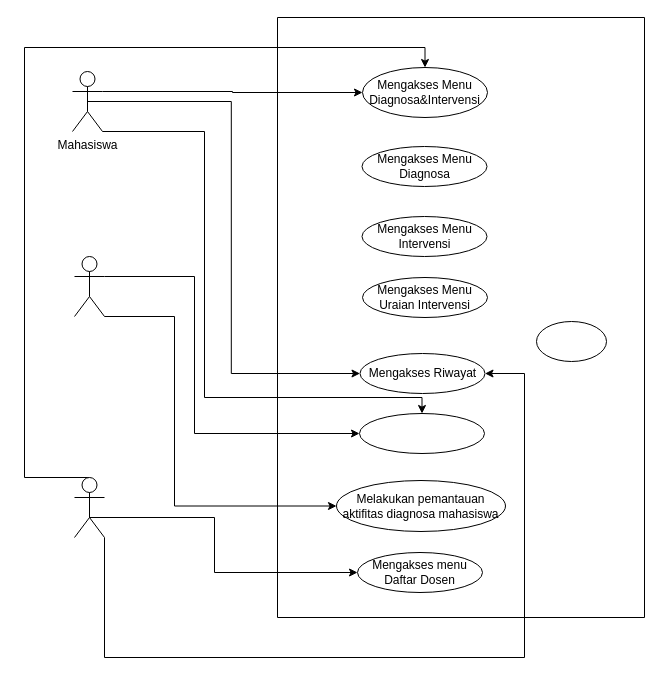
Image size: 662x683. Some labels were removed from this diagram. The box of each missing label's shape, as (x1, y1, x2, y2) in pixels:
Admin: (74, 476, 104, 538)
Dosen: (74, 256, 104, 316)
Login: (536, 320, 606, 362)
Mengakses Menu Profil: (358, 412, 484, 454)
